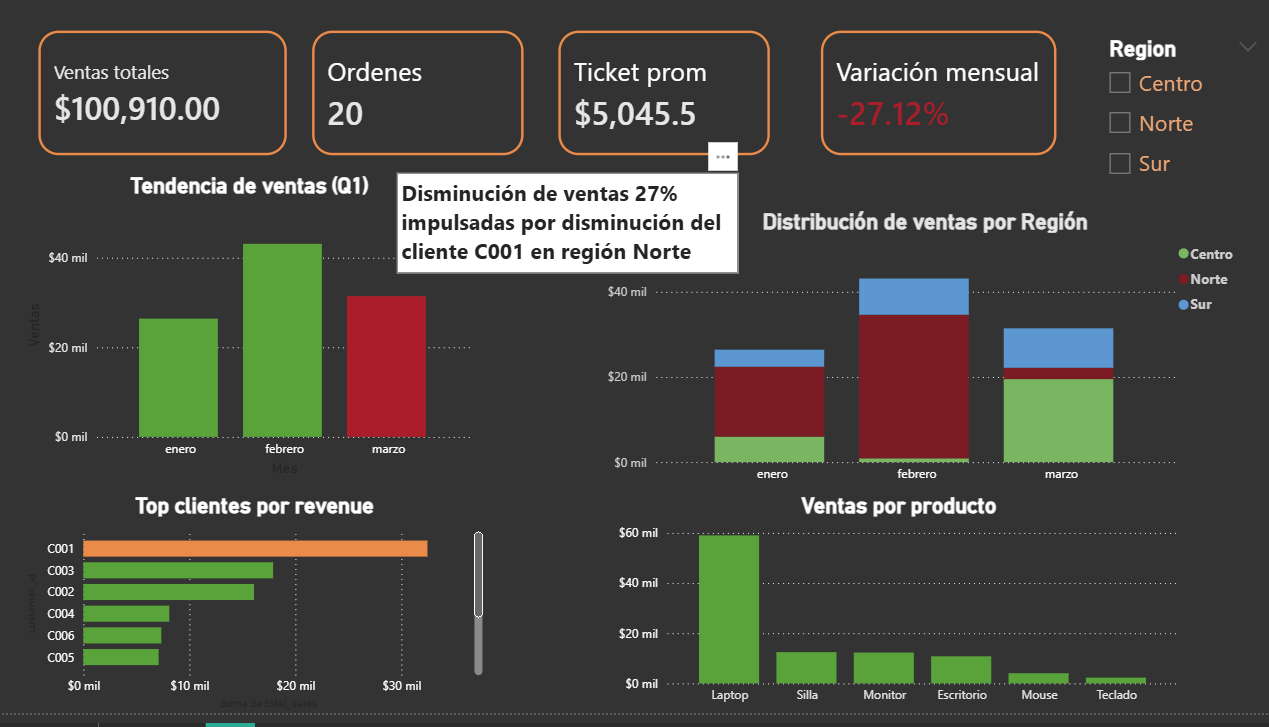

The dashboard page shown, as its layout file describes it:
{"tool":"powerbi","page":{"name":"Página 1","canvas":[1280,720],"ordinal":0},"visuals":[{"type":"cardVisual","fields":{"Data":["Sum(dataset.total_sales)"]},"box":[37.2,23.4,281.4,158.6],"z":0},{"type":"cardVisual","title":"Total de ordenes","fields":{"Data":["Count(dataset.order_id)"]},"box":[309.8,23.9,244.6,158.2],"z":1000},{"type":"cardVisual","title":"Total de ordenes","fields":{"Data":["dataset.TicAVG"]},"box":[554.4,23.9,244.6,158.2],"z":2000},{"type":"cardVisual","title":"Total de ordenes","fields":{"Data":["dataset.VAR"]},"box":[816.3,23.9,268.6,158.2],"z":3000},{"type":"clusteredColumnChart","title":"Tendencia de ventas (Q1)","fields":{"Category":["dataset.order_date.Variación.Jerarquía de fechas.Mes","dataset.order_date.Variación.Jerarquía de fechas.Día"],"Y":["Sum(dataset.total_sales)"]},"box":[37.2,182.1,453.3,307.1],"z":4000},{"type":"columnChart","title":"Ventas por producto","fields":{"Category":["dataset.product"],"Y":["Sum(dataset.total_sales)"]},"box":[627,500.1,567.2,220.2],"z":5000},{"type":"clusteredBarChart","title":"Top clientes por revenue","fields":{"Category":["dataset.customer_id"],"Y":["Sum(dataset.total_sales)"]},"box":[37.2,499.9,464,220.7],"z":6000},{"type":"slicer","fields":{"Values":["dataset.region"]},"box":[1107.4,41.2,172.8,167.5],"z":7000},{"type":"columnChart","title":"Distribución de ventas por Región","fields":{"Category":["dataset.order_date.Variación.Jerarquía de fechas.Mes"],"Y":["Sum(dataset.total_sales)"],"Series":["dataset.region"]},"box":[615.8,217.7,641.9,282.4],"z":8000},{"type":"textbox","box":[410.5,181.6,340.8,100.8],"z":8001}]}

Visuals, with their boxes in screenshot pixels (x1, y1, x2, y2), scaled from the page's 1280x720 canvas onto the 1269x727 screenshot:
cardVisual - Sum(dataset.total_sales): [left=37, top=24, right=316, bottom=184]
"Total de ordenes" cardVisual: [left=307, top=24, right=550, bottom=184]
"Total de ordenes" cardVisual: [left=550, top=24, right=792, bottom=184]
"Total de ordenes" cardVisual: [left=809, top=24, right=1076, bottom=184]
"Tendencia de ventas (Q1)" clusteredColumnChart: [left=37, top=184, right=486, bottom=494]
"Ventas por producto" columnChart: [left=622, top=505, right=1184, bottom=726]
"Top clientes por revenue" clusteredBarChart: [left=37, top=505, right=497, bottom=726]
slicer - dataset.region: [left=1098, top=42, right=1268, bottom=211]
"Distribución de ventas por Región" columnChart: [left=611, top=220, right=1247, bottom=505]
textbox: [left=407, top=183, right=745, bottom=285]
